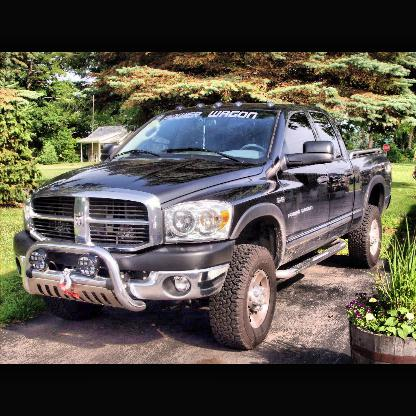Dodge Ram Pickup 3500 Quad Cab 2009: (16, 104, 392, 351)
